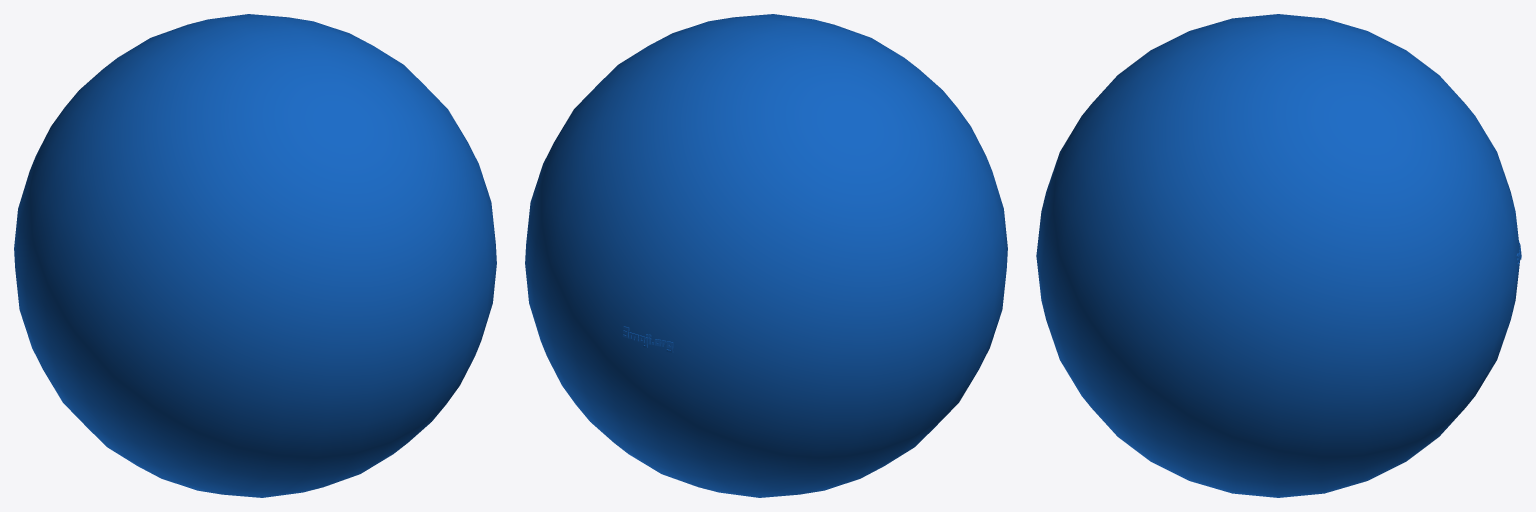
Rendered from blue_circle.gltf.
3 renders of one model, left to right at view 1: azimuth 30°, elevation 25°; view 2: azimuth 150°, elevation 25°; view 3: azimuth 270°, elevation 25°, orthographic.
Parts seen in each view (by area): view 1: Cube.6666; view 2: Cube.6666; view 3: Cube.6666.
Part boxes in pixels (x1,y1,x2,y2): Cube.6666: (14,14,496,497); Cube.6666: (525,14,1007,497); Cube.6666: (1036,14,1521,497).
Bounding box in the file's own units: 2.23 × 2.23 × 2.23.
Materials: 1 (1 with a texture image).
